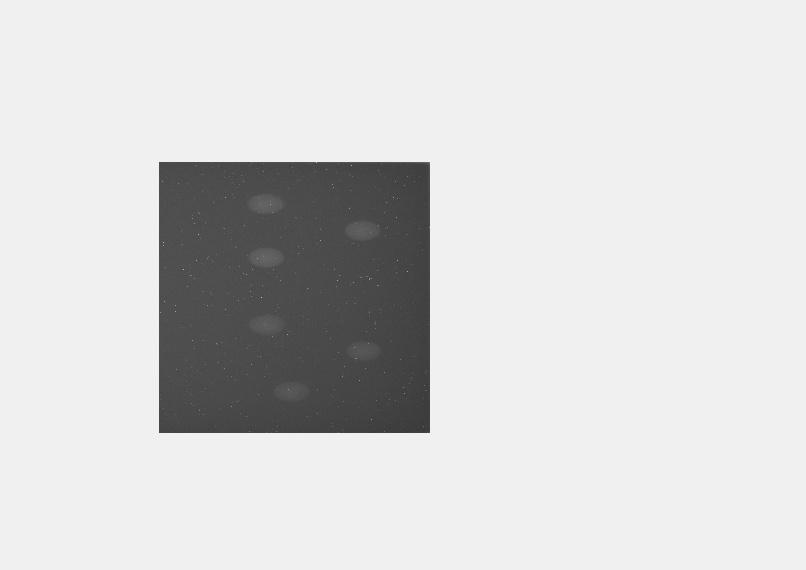cluster: (247, 313, 383, 402), (247, 191, 381, 268)
